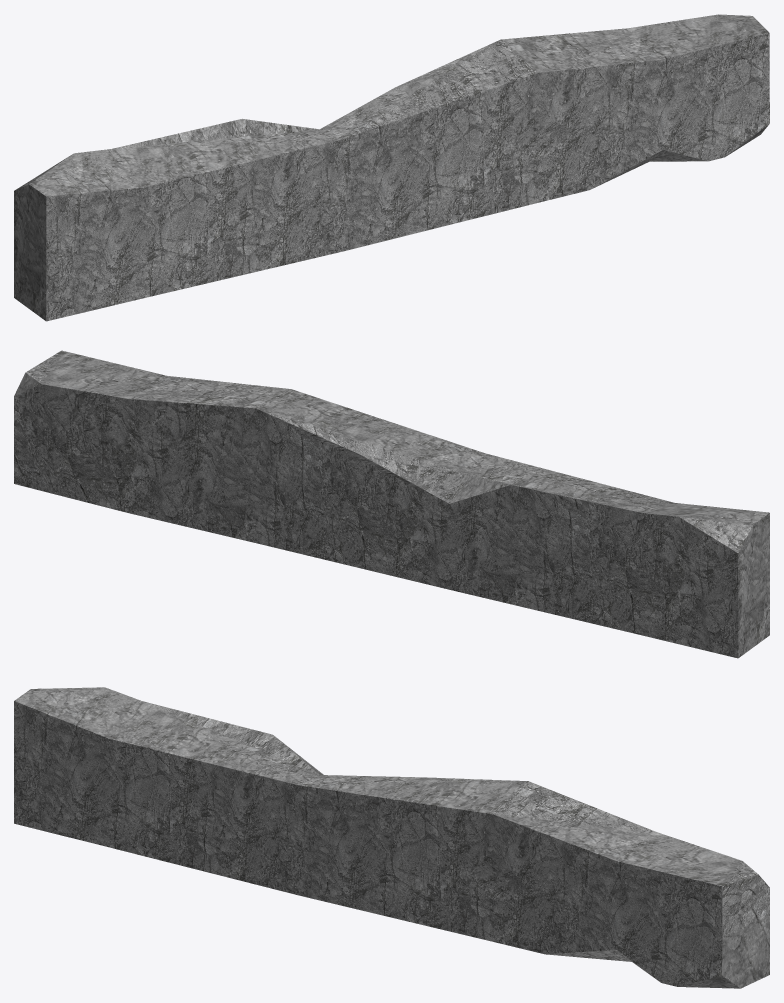
File: materials_3_wall_6.fbx
The picture shows the model from 3 angles, top to bottom: view 1: azimuth 30°, elevation 25°; view 2: azimuth 150°, elevation 25°; view 3: azimuth 330°, elevation 25°; orthographic projection.
Parts seen in each view (by area): view 1: materials_3_wall_6; view 2: materials_3_wall_6; view 3: materials_3_wall_6.
Boxes of the visible parts, <box> form: materials_3_wall_6: <box>14,14,769,321</box>; materials_3_wall_6: <box>14,350,769,658</box>; materials_3_wall_6: <box>14,687,769,988</box>.
Bounding box in the file's own units: 703 × 125 × 63.54.
